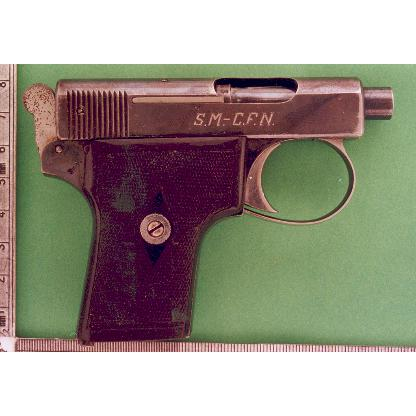gun: (22, 74, 394, 346)
